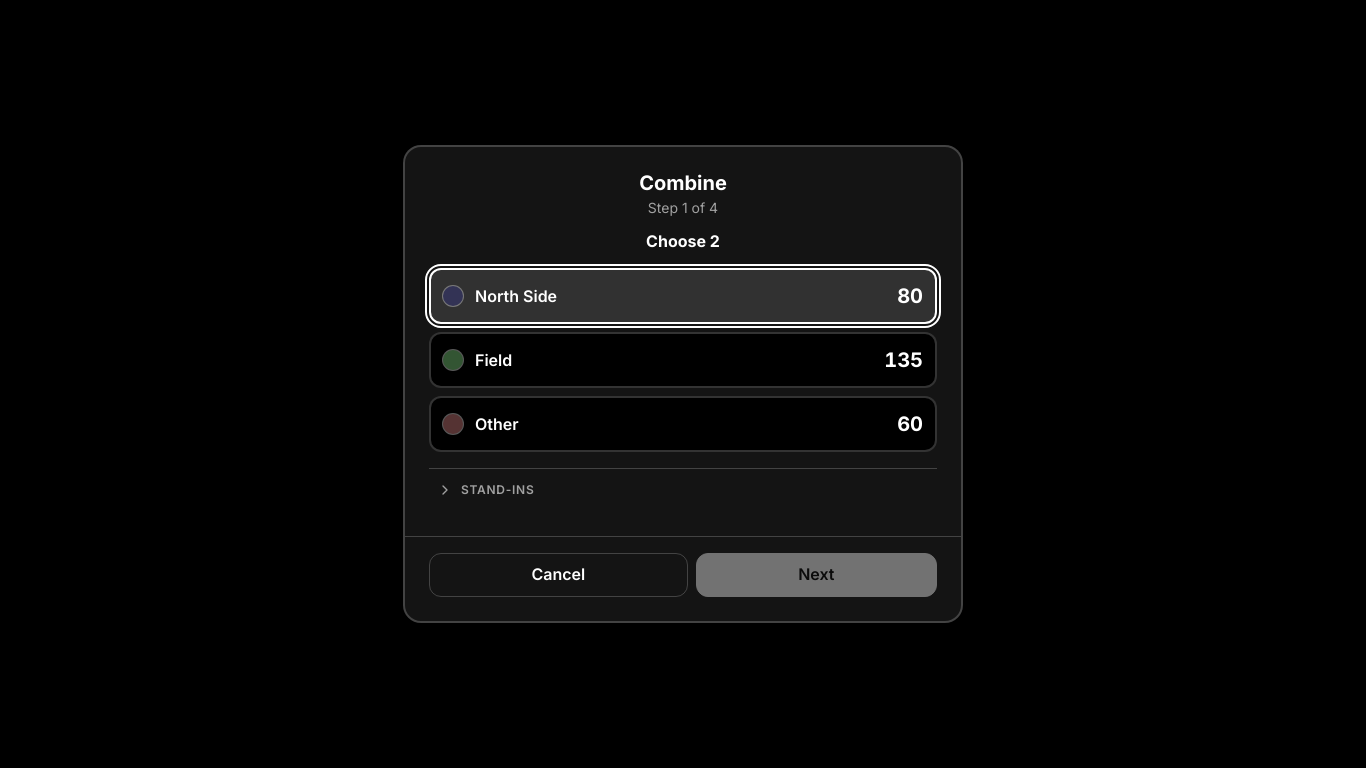
Scenario: CombineEntriesSheet › never fills every place with stand-ins
Click the button "North Side 80".
click(516, 296)  # box x1=429 y1=268 x2=937 y2=324
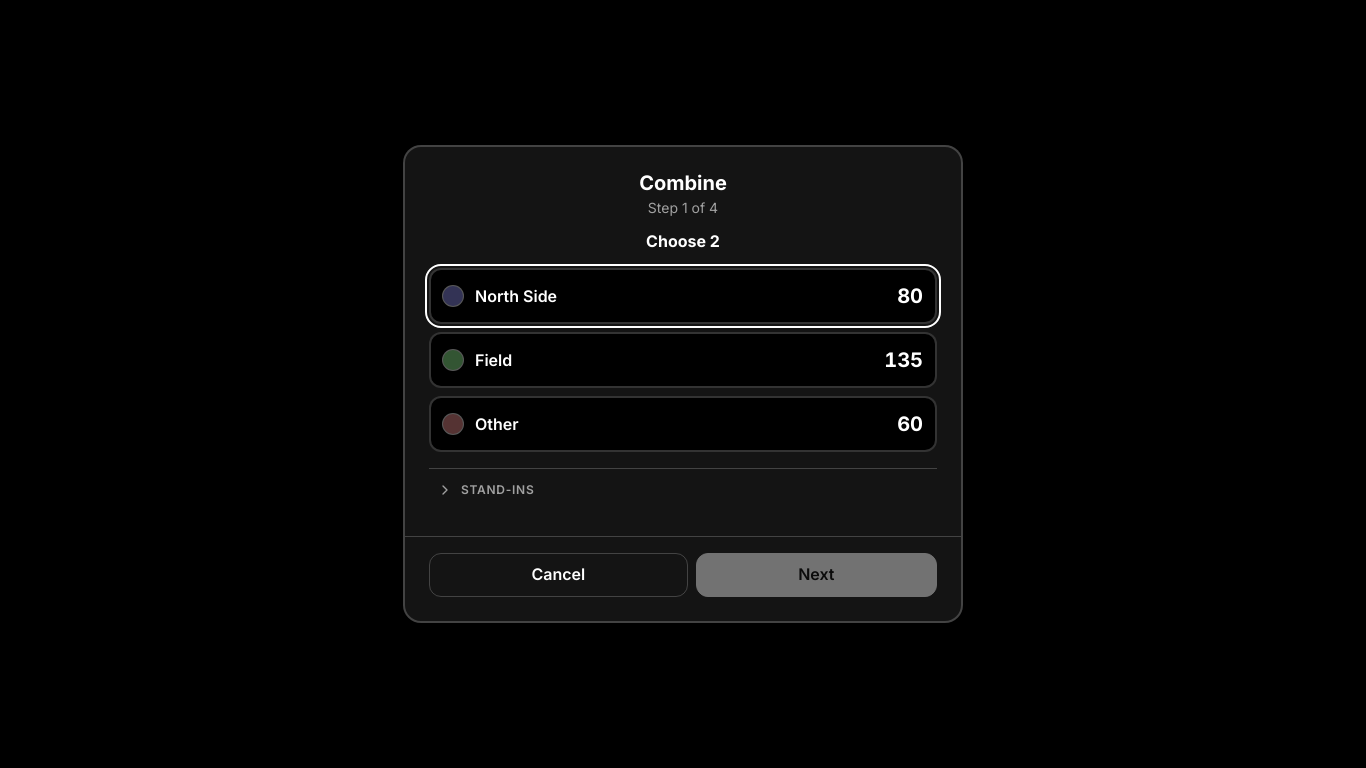
Click the button "Stand-ins".
click(498, 489)  # box x1=429 y1=468 x2=937 y2=512
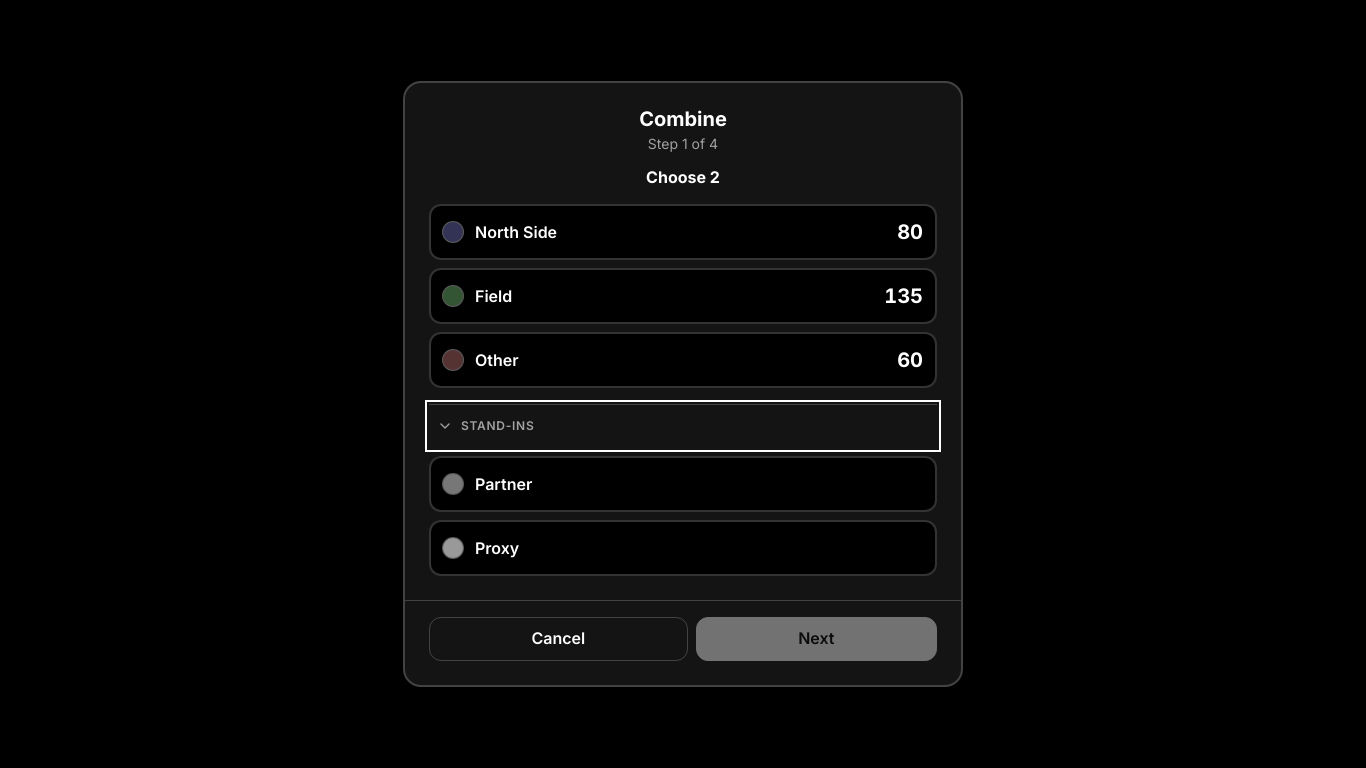
Click the button "Partner".
click(504, 484)  # box x1=429 y1=456 x2=937 y2=512
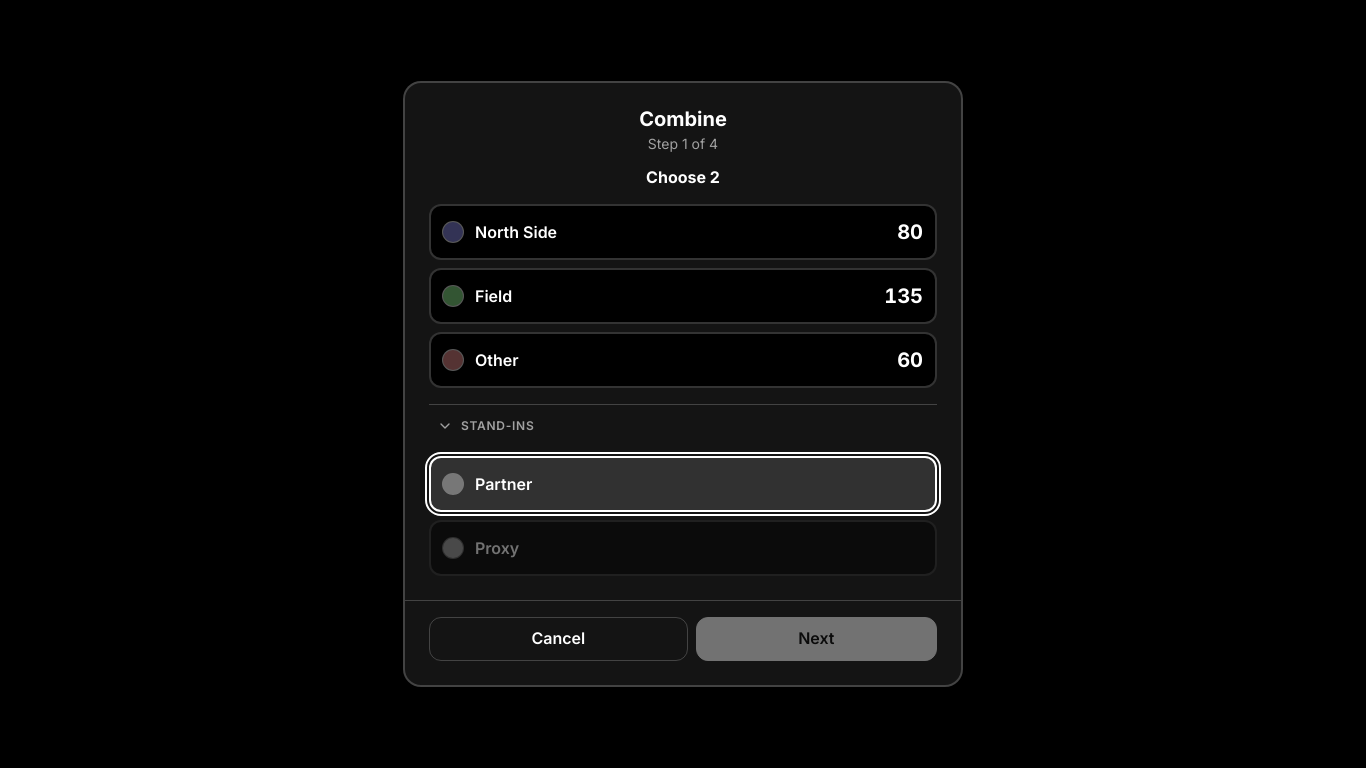
Expected: the button "Next" is disabled, x1=696 y1=617 x2=937 y2=661
Expected: the button "Proxy" is disabled, x1=429 y1=520 x2=937 y2=576
